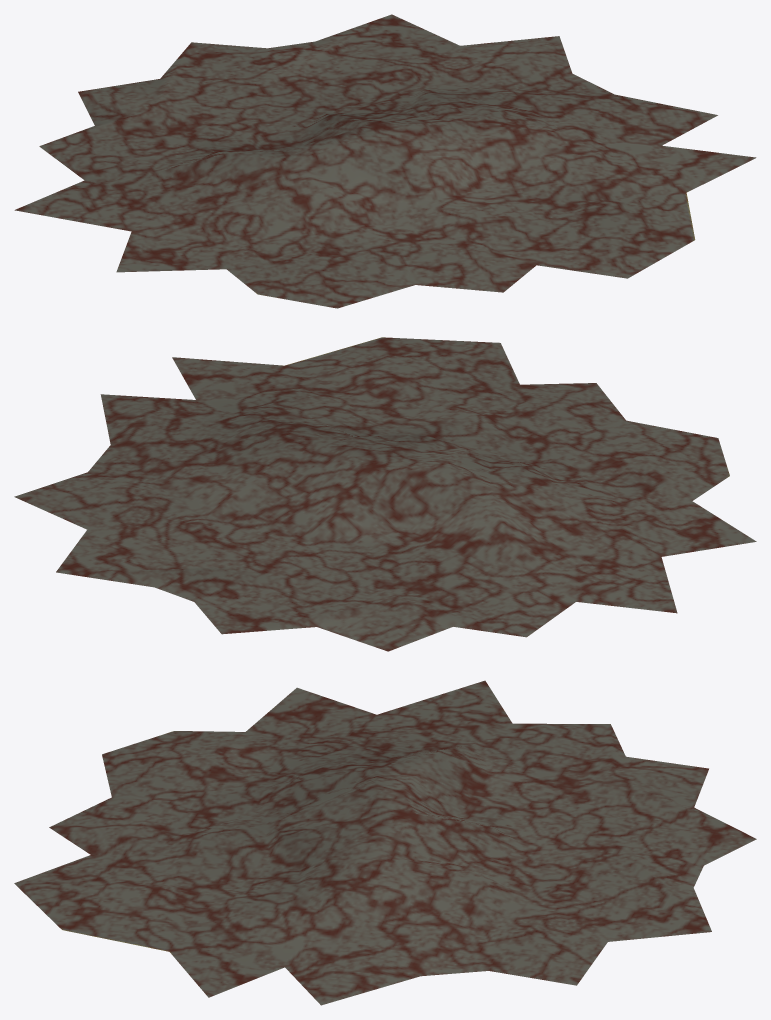
File: Moss1.fbx
The picture shows the model from 3 angles, top to bottom: view 1: azimuth 30°, elevation 25°; view 2: azimuth 150°, elevation 25°; view 3: azimuth 270°, elevation 25°; orthographic projection. The views are drawn at different scales.
Visible parts, largest first — view 1: Moss1; view 2: Moss1; view 3: Moss1.
Boxes of the visible parts, <box> form: Moss1: <box>14,14,756,308</box>; Moss1: <box>14,337,756,651</box>; Moss1: <box>14,680,756,1005</box>.
Size of the model in its own units: 2.14 by 0.1197 by 2.07.
